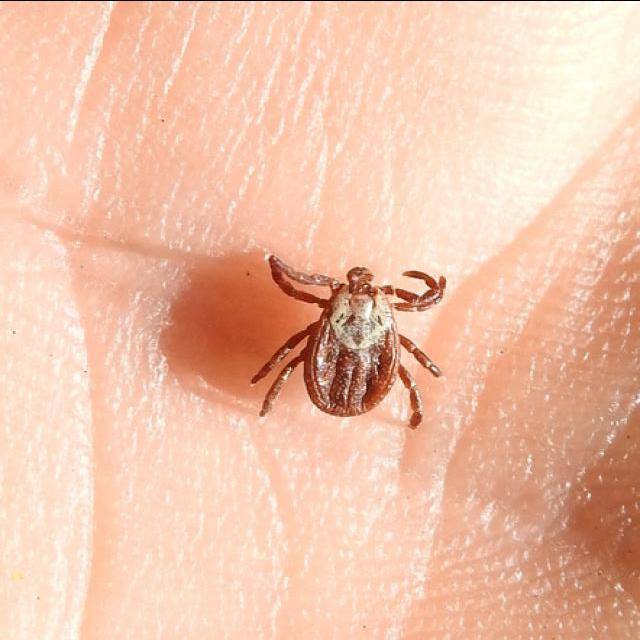Dermacentor Reticulatus-F: (249, 253, 446, 429)
